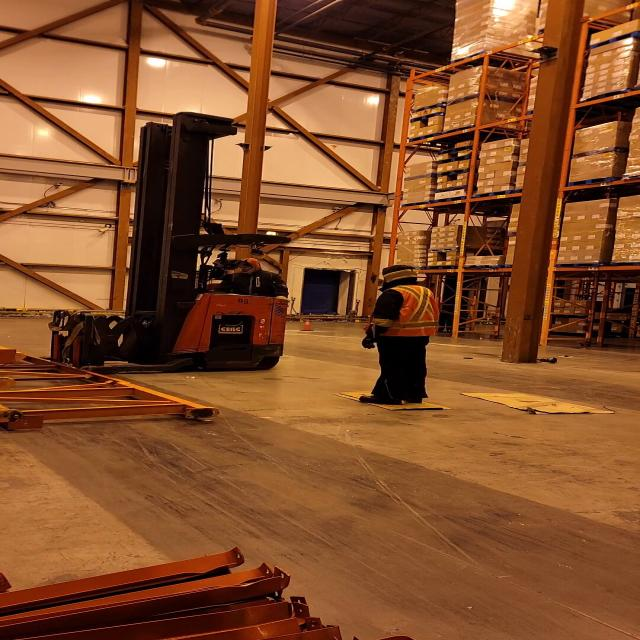forklift: (39, 118, 292, 375)
human: (358, 264, 444, 408), (204, 253, 287, 298)
objectofinterest: (0, 348, 228, 427), (459, 390, 615, 419), (332, 388, 452, 413)
